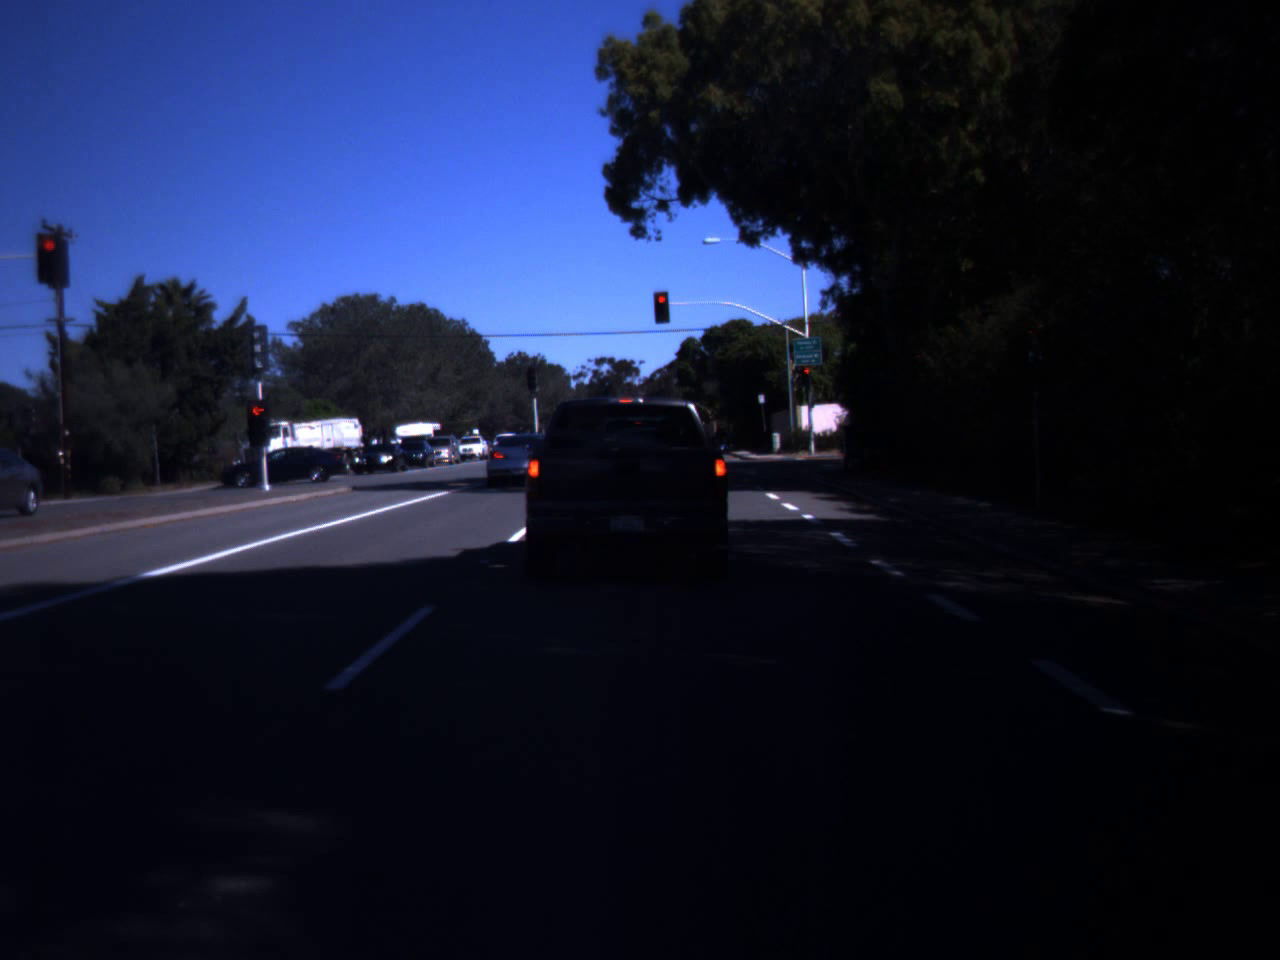stop: (36, 238, 63, 274), (656, 294, 668, 316), (250, 406, 262, 428)
